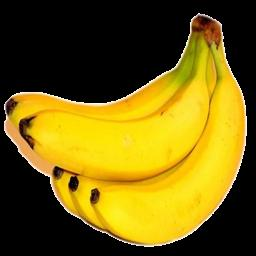Banana Fresh: (139, 1, 256, 256), (12, 79, 222, 195)
